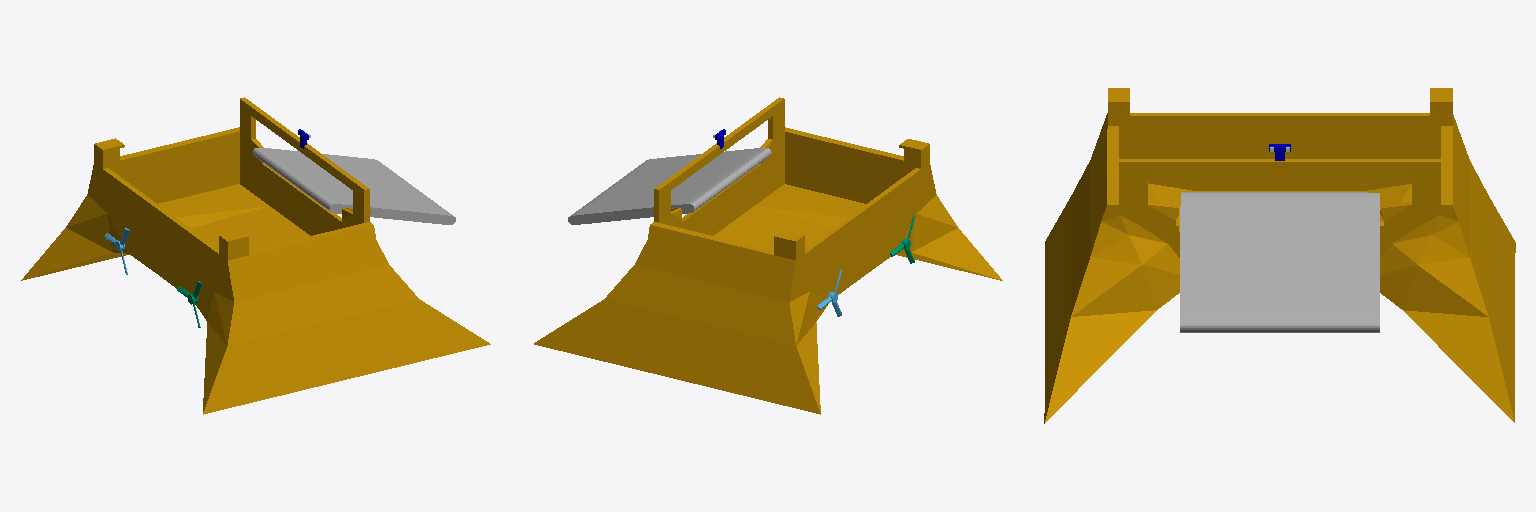
URDF robot description (WAM-V):
<?xml version="1.0" ?>
<!-- =================================================================================== -->
<!-- |    This document was autogenerated by xacro from [local-path]/vrx_ws/src/wamv_gazebo/urdf/wamv_gazebo.urdf.xacro | -->
<!-- |    EDITING THIS FILE BY HAND IS NOT RECOMMENDED                                 | -->
<!-- =================================================================================== -->
<!-- Basic WAM-V with gazebo plugins for dynamics -->
<robot name="WAM-V">

  <link name="wamv/body_link">
    <inertial>
      <origin rpy="0 -0 0" xyz="0 0 0"/>
      <inertia ixx="1" ixy="0" ixz="0" iyy="1" iyz="0" izz="1"/>
      <mass value="40"/>
    </inertial>
    <visual>
      <origin rpy="0 -0 1.57" xyz="0 0 0"/>
      <geometry>
        <mesh filename="package://wamv_description/models/WAM-V-Base/mesh/base.dae"/>
      </geometry>
    </visual>
    <collision>
      <origin rpy="0 -0 1.57" xyz="0 0 0"/>
      <geometry>
        <mesh filename="package://wamv_description/models/WAM-V-Base/mesh/base.dae"/>
      </geometry>
    </collision>
  </link>

  <link name="wamv/left_propeller_link">
    <origin rpy="0 -0 1.57" xyz="0 0 0"/>
    <inertial>
      <origin rpy="0 -0 1.57" xyz="0 0 0"/>
      <inertia ixx="1" ixy="0" ixz="0" iyy="1" iyz="0" izz="1"/>
      <mass value=".1"/>
    </inertial>
    <mass value="0.1"/>
    <visual>
      <origin rpy="0 -0 1.57" xyz="0 0 0"/>
      <geometry>
        <mesh filename="package://wamv_description/models/WAM-V-Base/mesh/propeller.dae"/>
      </geometry>
    </visual>
    <collision>
      <origin rpy="0 -0 1.57" xyz="0 0 0"/>
      <geometry>
        <mesh filename="package://wamv_description/models/WAM-V-Base/mesh/propeller.dae"/>
      </geometry>
    </collision>
  </link>

  <link name="wamv/right_propeller_link">
    <inertial>
      <origin rpy="0 -0 0" xyz="0 0 0"/>
      <inertia ixx="1" ixy="0" ixz="0" iyy="1" iyz="0" izz="1"/>
      <mass value=".1"/>
    </inertial>
    <visual>
      <origin rpy="0 -0 1.57" xyz="0 0 0"/>
      <geometry>
        <mesh filename="package://wamv_description/models/WAM-V-Base/mesh/propeller.dae"/>
      </geometry>
    </visual>
    <collision>
      <origin rpy="0 -0 1.57" xyz="0 0 0"/>
      <geometry>
        <mesh filename="package://wamv_description/models/WAM-V-Base/mesh/propeller.dae"/>
      </geometry>
    </collision>
  </link>
<!-- 
  <link name="wamv/left_battery_link">
    <visual name="left_battery_visual">
      <origin rpy="0 0 0" xyz="0 -1.03 -.45"/>
      <geometry>
        <mesh filename="package://vrx_gazebo/models/battery/mesh/battery.dae"/>
      </geometry>
    </visual>
    <collision name="left_battery_collision">
      <origin rpy="0 0 0" xyz="0 0 .15"/>
      <geometry>
        <box size=".6 .4 .31"/>
      </geometry>
    </collision>
    <inertial>
      <origin rpy=" 0 0 0" xyz="0 0 .15"/>
      <mass value="23.5"/>
      <inertia ixx="0.5015291666666667" ixy="0" ixz="0" iyy="0.8931958333333333" iyz="0" izz="1.0183333333333333"/>
    </inertial>
  </link>
  <joint name="wamv/left_chasis_battery_joint" type="fixed">
    <origin rpy="0 0 0" xyz="0 1 0.45"/>
    <parent link="wamv/base_link"/>
    <child link="wamv/left_battery_link"/>
  </joint>
  <link name="wamv/right_battery_link">
    <visual name="right_battery_visual">
      <origin rpy="0 0 0" xyz="0 -1.03 -.45"/>
      <geometry>
        <mesh filename="package://vrx_gazebo/models/battery/mesh/battery.dae"/>
      </geometry>
    </visual>
    <collision name="right_battery_collision">
      <origin rpy="0 0 0" xyz="0 0 .15"/>
      <geometry>
        <box size=".6 .4 .31"/>
      </geometry>
    </collision>
    <inertial>
      <origin rpy=" 0 0 0" xyz="0 0 .15"/>
      <mass value="23.5"/>
      <inertia ixx="0.5015291666666667" ixy="0" ixz="0" iyy="0.8931958333333333" iyz="0" izz="1.0183333333333333"/>
    </inertial>
  </link>
  <joint name="wamv/right_chasis_battery_joint" type="fixed">
    <origin rpy="0 0 0" xyz="0 -1 0.45"/>
    <parent link="wamv/base_link"/>
    <child link="wamv/right_battery_link"/>
  </joint> -->
  <link name="wamv/base_link">
  </link>

  <joint name="wamv/dummy_joint" type="fixed">
    <parent link="wamv/base_link"/>
    <child link="wamv/body_link"/>
  </joint>


  <!-- <joint name="wamv/dummy_joint_2" type="fixed">
    <parent link="wamv/base_link"/>
    <child link="wamv/body_link"/>
  </joint> -->

  <!-- Basic model of the 16' WAM-V USV -->

  <link name="wamv/left_engine_link">
    <!-- <visual>
      <geometry>
        <mesh filename="package://wamv_description/models/engine/mesh/engine.dae"/>
      </geometry>
    </visual> -->
    <collision name="left_engine_vertical_axis_collision">
      <origin rpy="0 0 0" xyz="0 0 0"/>
      <geometry>
        <box size="0.2 0.15 0.83"/>
      </geometry>
    </collision>
    <collision name="left_engine_rear_end_collision">
      <origin rpy="0 0 0" xyz="-0.34 0 0.12"/>
      <geometry>
        <box size="0.12 0.15 0.12"/>
      </geometry>
    </collision>
    <inertial>
      <mass value="15"/>
      <inertia ixx="0.889245" ixy="0.0" ixz="0.0" iyy="0.911125" iyz="0.0" izz="0.078125"/>
    </inertial>
  </link>
  <!-- <link name="wamv/left_propeller_link">
    <visual>
      <geometry>
        <mesh filename="package://wamv_description/models/propeller/mesh/propeller.dae"/>
      </geometry>
    </visual>
    <collision name="left_propeller_collision">
      <origin rpy="0 1.57 0" xyz="-0.08 0 0"/>
      <geometry>
        <cylinder length="0.18" radius="0.24"/>
      </geometry>
    </collision>
    <inertial>
      <mass value="0.5"/>
      <inertia ixx="0.008545" ixy="0.0" ixz="0.0" iyy="0.008545" iyz="0.0" izz="0.0144"/>
    </inertial>
  </link> -->


  <joint name="wamv/left_chasis_engine_joint" type="revolute">
    <axis xyz="0 0 1"/>
    <limit effort="10" lower="0" upper="0" velocity="10"/>
    <origin rpy="0.0 0.0 0.0" xyz="-0.85 0.66 -0.2"/>
    <parent link="wamv/base_link"/>
    <child link="wamv/left_engine_link"/>
  </joint>
  <joint name="wamv/left_engine_propeller_joint" type="continuous">
    <axis rpy="0 0 0" xyz="1 0 0"/>
    <parent link="wamv/left_engine_link"/>
    <child link="wamv/left_propeller_link"/>
    <origin rpy="0 0 0" xyz="0 0 0"/>
    <limit effort="500" velocity="500"/>
    <dynamics damping="0.05" friction="0.05"/>
  </joint>


  <link name="wamv/right_engine_link">
    <!-- <visual>
      <geometry>
        <mesh filename="package://wamv_description/models/engine/mesh/engine.dae"/>
      </geometry>
    </visual> -->
    <collision name="right_engine_vertical_axis_collision">
      <origin rpy="0 0 0" xyz="-0.16 0 -0.24"/>
      <geometry>
        <box size="0.2 0.15 0.83"/>
      </geometry>
    </collision>
    <collision name="right_engine_rear_end_collision">
      <origin rpy="0 0 0" xyz="-0.34 0 0.12"/>
      <geometry>
        <box size="0.12 0.15 0.12"/>
      </geometry>
    </collision>
    <inertial>
      <mass value="15"/>
      <inertia ixx="0.889245" ixy="0.0" ixz="0.0" iyy="0.911125" iyz="0.0" izz="0.078125"/>
    </inertial>
  </link>
  <!-- <link name="wamv/right_propeller_link">
    <visual>
      <geometry>
        <mesh filename="package://wamv_description/models/propeller/mesh/propeller.dae"/>
      </geometry>
    </visual>
    <collision name="right_propeller_collision">
      <origin rpy="0 1.57 0" xyz="-0.08 0 0"/>
      <geometry>
        <cylinder length="0.18" radius="0.24"/>
      </geometry>
    </collision>
    <inertial>
      <mass value="0.5"/>
      <inertia ixx="0.008545" ixy="0.0" ixz="0.0" iyy="0.008545" iyz="0.0" izz="0.0144"/>
    </inertial>
  </link> -->
  <joint name="wamv/right_chasis_engine_joint" type="revolute">
    <axis xyz="0 0 1"/>
    <limit effort="0" lower="0" upper="0" velocity="0"/>
    <origin rpy="0.0 0.0 0.0" xyz="-0.85 -.7 -0.2"/>
    <parent link="wamv/base_link"/>
    <child link="wamv/right_engine_link"/>
  </joint>
  <joint name="wamv/right_engine_propeller_joint" type="continuous">
    <axis rpy="0 0 0" xyz="1 0 0"/>
    <parent link="wamv/right_engine_link"/>
    <child link="wamv/right_propeller_link"/>
    <origin rpy="0 0 0" xyz="0 0 0"/>
    <limit effort="200" velocity="200"/>
    <dynamics damping="0.05" friction="0.05"/>
  </joint>


  <!-- <link name="belt_link">
    <visual>
      <origin rpy="0 -0 0" xyz="0 0 0"/>
      <geometry>
        <mesh filename="package://wamv_description/models/WAM-V-Base/mesh/belt.dae"/>
      </geometry>
    </visual>
    <collision>
      <origin rpy="0 -0 0" xyz="0 0 0"/>
      <geometry>
        <mesh filename="package://wamv_description/models/WAM-V-Base/mesh/belt.dae"/>
      </geometry>
    </collision>
  </link>

  <joint name="belt_to_base_joint" type="fixed">
		<origin xyz="1.1 0 0.3" rpy="-2.82743 0 1.57"/>
    <parent link="wamv/base_link" />
    <child link="belt_link" />
  </joint> -->


  <link name="world" />

	<joint name="fixed_to_base" type="fixed">
		<parent link="wamv/body_link"/>
		<child link="world"/>
		<origin xyz="0.0 0.0 0.0" rpy="0.0 0.0 0"/>
	</joint>

  <joint name="fixed" type="fixed">
		<parent link="wamv/body_link"/>
		<child link="belt_visual"/>
		<origin xyz="0.0 0.0 .13" rpy="0.0 0.0 0"/>
	</joint>
	

	<link name="belt_visual">
		<inertial>
			<origin xyz="1.3 0 -0" rpy="0.32 0.0 1.57"/>
			<mass value=".01" />
			<inertia ixx="1" ixy="0" ixz="0" iyy="1" iyz="0" izz="1" />
		</inertial>
    <visual>
      <origin xyz="1.3 0 .05" rpy="0.32 0.0 1.57"/>
      <geometry>
        <mesh filename="package://wamv_description/models/WAM-V-Base/mesh/belt.dae"/>
      </geometry>
    </visual>
	</link>




	<joint name="belt_joint" type="prismatic">
		<origin xyz="1.6 0 .03" rpy="0.35 0.0 1.57"/>
		<parent link="world"/>
		<child link="belt_moving"/>
		<axis xyz="0 1 0"/>
		<limit lower="0.0" upper="1" effort="1000" velocity="1000"/>
	</joint>

	<link name="belt_moving">
		<inertial>
			<origin xyz="0.0 0.0 0.0" rpy="0 0.0 0.0"/>
			<mass value=".0001"/>
			<inertia ixx="0.0" ixy="0.0" ixz="0.0" iyy="0.0" iyz="0.0" izz="0.0"/>
		</inertial>
		<collision>
			<origin xyz="0.0 0.0 0.0" rpy="0 0.0 0.0"/>
			<geometry>
				<box size="1 1.2 0.1"/>
			</geometry>
		</collision>
	</link>

  <gazebo reference="belt_moving">
    <collision>
      <surface>
        <friction>
          <ode>
            <mu>1</mu>
            <mu2>1</mu2>
            <slip1>0</slip1>
            <slip2>0</slip2>
          </ode>
        </friction>
      </surface>
    </collision>
  </gazebo>

	<gazebo>
		<plugin name="conveyor_belt_plugin" filename="libROSConveyorBeltPlugin.so">
			<robot_namespace>/</robot_namespace>
			<link>belt_moving</link>
			<power>20</power>
			<max_velocity>1.0</max_velocity>
		</plugin>
	</gazebo>


  <gazebo>
    <plugin filename="libusv_gazebo_thrust_plugin.so" name="wamv_gazebo_thrust">
      <cmdTimeout>1.0</cmdTimeout>
      <robotNamespace>wamv</robotNamespace>
      <thruster>
        <!-- Required Parameters -->
        <linkName>wamv/left_propeller_link</linkName>
        <propJointName>wamv/left_engine_propeller_joint</propJointName>
        <engineJointName>wamv/left_chasis_engine_joint</engineJointName>
        <cmdTopic>thrusters/left_thrust_cmd</cmdTopic>
        <angleTopic>thrusters/left_thrust_angle</angleTopic>
        <enableAngle>False</enableAngle>
        <!-- Optional Parameters -->
        <mappingType>1</mappingType>
        <maxCmd>1.0</maxCmd>
        <maxForceFwd>1050.0</maxForceFwd>
        <maxForceRev>-150.0</maxForceRev>
        <maxAngle>0</maxAngle>
      </thruster>
      <thruster>
        <!-- Required Parameters -->
        <linkName>wamv/right_propeller_link</linkName>
        <propJointName>wamv/right_engine_propeller_joint</propJointName>
        <engineJointName>wamv/right_chasis_engine_joint</engineJointName>
        <cmdTopic>thrusters/right_thrust_cmd</cmdTopic>
        <angleTopic>thrusters/right_thrust_angle</angleTopic>
        <enableAngle>True</enableAngle>
        <!-- Optional Parameters -->
        <mappingType>1</mappingType>
        <maxCmd>1.0</maxCmd>
        <maxForceFwd>1050.0</maxForceFwd>
        <maxForceRev>-1050.0</maxForceRev>
        <maxAngle>0</maxAngle>
      </thruster>
    </plugin>
  </gazebo>

  <!--Gazebo Plugin for simulating WAM-V dynamics-->
  <gazebo>
    <plugin filename="libusv_gazebo_dynamics_plugin.so" name="usv_dynamics_wamv_dynamics_plugin">
      <bodyName>wamv/base_link</bodyName>
      <!-- Must be same as the ocean model!-->
      <waterLevel>0</waterLevel>
      <waterDensity>997.8</waterDensity>
      <!-- Added mass -->
      <xDotU>0.0</xDotU>
      <yDotV>0.0</yDotV>
      <nDotR>0.0</nDotR>
      <!-- Linear and quadratic drag -->
      <xU>51.3</xU>
      <xUU>72.4</xUU>
      <yV>40.0</yV>
      <yVV>0.0</yVV>
      <zW>500.0</zW>
      <kP>50.0</kP>
      <mQ>50.0</mQ>
      <nR>400.0</nR>
      <nRR>0.0</nRR>
      <!-- General dimensions -->
      <!--<boatArea>2.2</boatArea>-->
      <hullRadius>0.213</hullRadius>
      <boatWidth>2.4</boatWidth>
      <boatLength>4.9</boatLength>
      <!-- Length discretization, AKA, "N" -->
      <length_n>2</length_n>
      <!-- Wave model -->
      <wave_model>ocean_waves</wave_model>
    </plugin>
  </gazebo>

  <link name="wamv/gps_wamv_link">
    <collision name="gps_wamv_collision_base">
      <origin rpy="0 0 0" xyz="0 0 0.025"/>
      <geometry>
        <cylinder length="0.05" radius="0.015"/>
      </geometry>
    </collision>
    <collision name="gps_wamv_collision_antenna">
      <origin rpy="0 0 0" xyz="0 0 0.11"/>
      <geometry>
        <cylinder length="0.1" radius="0.15"/>
      </geometry>
    </collision>
    <inertial>
      <mass value="1"/>
      <inertia ixx="0.006458" ixy="0.0" ixz="0.0" iyy="0.006458" iyz="0.0" izz="0.01125"/>
    </inertial>
  </link>
  <joint name="wamv/gps_wamv_joint" type="revolute">
    <axis xyz="0 0 1"/>
    <limit effort="1000.0" lower="0.0" upper="0" velocity="0"/>
    <origin rpy="0 0 0" xyz="-0.85 0 1.3"/>
    <parent link="wamv/base_link"/>
    <child link="wamv/gps_wamv_link"/>
  </joint>

  <gazebo>
    <plugin filename="libhector_gazebo_ros_gps.so" name="gps_plugin_gps_wamv">
      <updateRate>15</updateRate>
      <alwaysOn>true</alwaysOn>
      <bodyName>wamv/gps_wamv_link</bodyName>
      <!-- Manually prepend namespace to tf frame. -->
      <frameId>wamv/gps_wamv_link</frameId>
      <topicName>wamv/sensors/gps/gps/fix</topicName>
      <!-- Note that the hector_gazebo_ros_gps plugin uses NWU coordinates
             for reporting velocities.  This may cause problems if localization
             requires velocity in ENU.
             See Issue #64 in VRX project for details
             https://bitbucket.org/osrf/vrx/issues/64 -->
      <velocityTopicName>wamv/sensors/gps/gps/fix_velocity</velocityTopicName>
      <!-- Location of origin of Gazebo Sand Island map -->
      <referenceLatitude>-33.724223</referenceLatitude>
      <referenceLongitude>150.679736</referenceLongitude>
      <referenceAltitude>0.0</referenceAltitude>
      <referenceHeading>270</referenceHeading>
      <offset>0.0 0.0 0.0</offset>
      <drift>0.0 0.0 0.0</drift>
      <gaussianNoise>0 0 0</gaussianNoise>
      <velocityOffset>0.0 0.0 0.0</velocityOffset>
      <velocityDrift>0.0 0.0 0.0</velocityDrift>
      <velocityGaussianNoise>0.0 0.0 0.0</velocityGaussianNoise>
    </plugin>
  </gazebo>

  <link name="wamv/imu_wamv_link">
    <inertial>
      <mass value="0.1"/>
      <inertia ixx="0.000083" ixy="0.0" ixz="0.0" iyy="0.000083" iyz="0.0" izz="0.0125"/>
    </inertial>
  </link>
  <joint name="wamv/imu_wamv_joint" type="revolute">
    <axis xyz="0 0 1"/>
    <limit effort="1000.0" lower="0.0" upper="0" velocity="0"/>
    <origin rpy="0 0 0" xyz="0.3 -0.2 1.3"/>
    <parent link="wamv/base_link"/>
    <child link="wamv/imu_wamv_link"/>
  </joint>

  <gazebo>
    <plugin filename="libhector_gazebo_ros_imu.so" name="imu_plugin_imu_wamv">
      <updateRate>15</updateRate>
      <bodyName>wamv/imu_wamv_link</bodyName>
      <topicName>wamv/sensors/imu/imu/data</topicName>
      <serviceName>wamv/sensors/imu_service</serviceName>
      <!-- Manually prepend namespace to tf frame. -->
      <frameId>wamv/imu_wamv_link</frameId>
      <alwaysOn>true</alwaysOn>
      <accelOffset>0.0 0.0 0.0</accelOffset>
      <accelDrift>0.0 0.0 0.0</accelDrift>
      <accelDriftFrequency>0.00027 0.00027 0.000027</accelDriftFrequency>
      <accelGaussianNoise>0.0 0.0 0.0</accelGaussianNoise>
      <rateOffset>0.0 0.0 0.0</rateOffset>
      <rateDrift>0.0 0.0 0.0</rateDrift>
      <rateDriftFrequency>0.00027 0.00027 0.000027</rateDriftFrequency>
      <rateGaussianNoise>0.0 0.0 0.0</rateGaussianNoise>
      <yawOffset>0.0</yawOffset>
      <yawDrift>0.0</yawDrift>
      <yawDriftFrequency>0.00027</yawDriftFrequency>
      <yawGaussianNoise>0.0</yawGaussianNoise>
    </plugin>
  </gazebo>


  <!-- 3d lidar sensor -->
  <link name="wamv/lidar_wamv_link">
    <visual name="lidar_wamv_visual">
      <origin rpy="0 0 0" xyz="0 0 0"/>
      <geometry>
        <mesh filename="package://wamv_description/models/WAM-V-Base/mesh/sensor.dae"/>
      </geometry>
    </visual>
    <collision name="lidar_wamv_collision">
      <geometry>
        <cylinder length="0.075" radius="0.055"/>
      </geometry>
    </collision>
    <inertial>
      <mass value="1"/>
      <inertia ixx="0.00109375" ixy="0" ixz="0" iyy="0.00109375" iyz="0" izz="0.00125"/>
    </inertial>
  </link>
  <!-- Sensor base_link to lidar joint -->
  <joint name="wamv/lidar_wamv_post_arm_to_lidar_wamv_joint" type="fixed">
    <origin rpy="0 0 1.57" xyz="0.751596 0 0.785158"/>
    <parent link="wamv/base_link"/>
    <child link="wamv/lidar_wamv_link"/>
  </joint>

  <gazebo reference="wamv/lidar_wamv_link">
    <sensor name="lidar_wamv_sensor" type="gpu_ray">
      <update_rate>10</update_rate>
      <ray>
        <scan>
          <horizontal>
            <samples>18750.0</samples>
            <resolution>0.1</resolution>
            <min_angle>-3.1416</min_angle>
            <max_angle>-3.1416</max_angle>
          </horizontal>
          <vertical>
            <samples>16</samples>
            <resolution>1</resolution>
            <min_angle>-0.0872665</min_angle>
            <max_angle>0.0872665</max_angle>
          </vertical>
        </scan>
        <range>
          <min>0.1</min>
          <max>130</max>
        </range>
        <noise>
          <type>gaussian</type>
          <mean>0.0</mean>
          <stddev>0.01</stddev>
        </noise>
      </ray>
      <plugin filename="libgazebo_ros_velodyne_gpu_laser.so" name="lidar_wamv_plugin">
        <topicName>wamv/sensors/lidars/lidar_wamv/points</topicName>
        <frameName>wamv/lidar_wamv_link</frameName>
        <min_intensity>0</min_intensity>
      </plugin>
    </sensor>
  </gazebo>
  <!--specs for 16 beam lidar are implemented by default.
          See wamv_3d_lidar for those-->
  <!-- <link name="wamv/cpu_cases_link">
    <visual name="cpu_cases_visual">
      <origin rpy="0 0 0" xyz="0.073 0 -1.53"/>
      <geometry>
        <mesh filename="package://vrx_gazebo/models/cpu_cases/mesh/cpu_cases.dae"/>
      </geometry>
    </visual>
    <collision name="cpu_case_1_collision">
      <origin rpy="0 0 0" xyz="0.185 0 0"/>
      <geometry>
        <box size="0.595 0.83 0.47"/>
      </geometry>
    </collision>
    <collision name="cpu_case_2_collision">
      <origin rpy="0 0 0" xyz="-0.3 0 -0.092"/>
      <geometry>
        <box size="0.375 0.64 0.28"/>
      </geometry>
    </collision>
    <inertial>
      <mass value="20"/>
      <inertia ixx="1.51633333333333" ixy="0" ixz="0" iyy="1.93633333333333" iyz="0" izz="2.71633333333333"/>
    </inertial>
  </link>
  <joint name="wamv/chasis_cpu_cases_joint" type="fixed">
    <origin rpy="0 0 0" xyz="-0.15 0 1.53"/>
    <parent link="wamv/base_link"/>
    <child link="wamv/cpu_cases_link"/>
  </joint> -->

</robot>

--- Render facts (derived) ---
Views: 3 orthographic renders of the robot side by side, from view 1: azimuth 30°, elevation 25°; view 2: azimuth 150°, elevation 25°; view 3: azimuth 270°, elevation 25°.
Model WAM-V with 12 links and 11 joints (4 revolute, 2 continuous, 1 prismatic, 4 fixed), rooted at wamv/base_link, posed every joint at zero.
Visible links, largest first — view 1: wamv/body_link, belt_visual; view 2: wamv/body_link, belt_visual; view 3: wamv/body_link, belt_visual.
Link boxes in pixels (x1,y1,x2,y2): wamv/body_link: (21,97,490,414); belt_visual: (252,148,455,224); wamv/body_link: (534,97,1002,414); belt_visual: (568,148,771,224); wamv/body_link: (1044,88,1515,423); belt_visual: (1180,192,1379,332).
Size in the robot's own frame: 3.31 by 3.42 by 1.74 metres.
Meshes: 4 distinct files referenced, 5 mesh visuals loaded (4 Collada DAE).